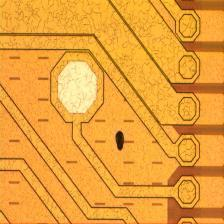PARTICLE: (109, 130, 132, 152)
